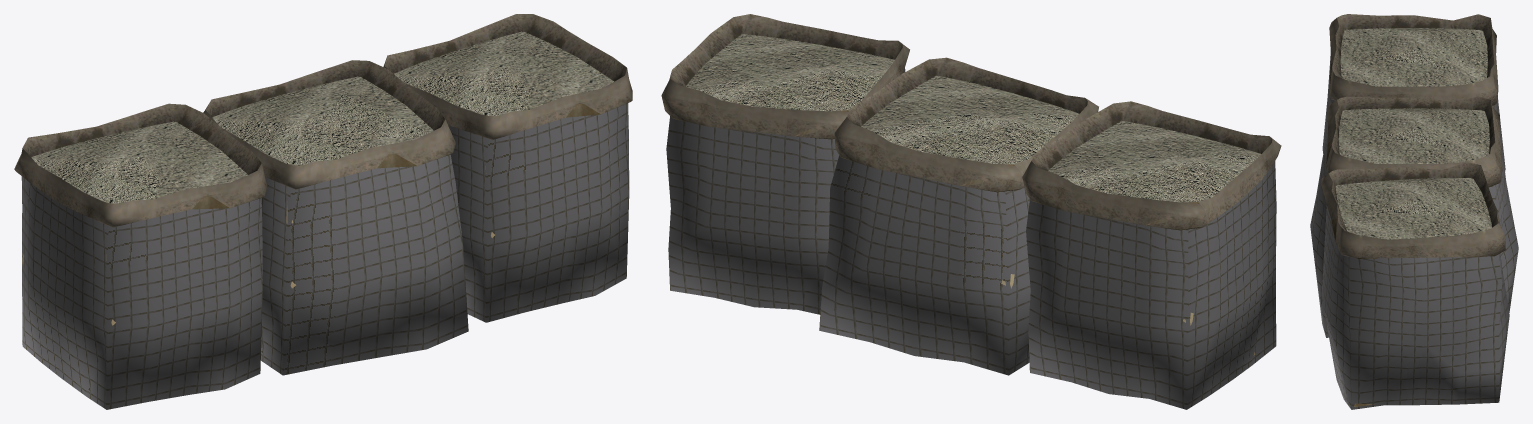
The model's file is sandbag_big_structure_a.fbx.
3 renders of one model, left to right at view 1: azimuth 30°, elevation 25°; view 2: azimuth 150°, elevation 25°; view 3: azimuth 270°, elevation 25°, orthographic. The views are drawn at different scales.
Parts seen in each view (by area): view 1: sandbag_big_structure_mesh; view 2: sandbag_big_structure_mesh; view 3: sandbag_big_structure_mesh.
Boxes of the visible parts, box(x1,y1,x2,y2) form: sandbag_big_structure_mesh: box(14, 14, 632, 409); sandbag_big_structure_mesh: box(661, 14, 1281, 409); sandbag_big_structure_mesh: box(1310, 14, 1518, 409).
Bounding box in the file's own units: 3.98 × 1.49 × 1.53.
3 materials, 3 textured.
